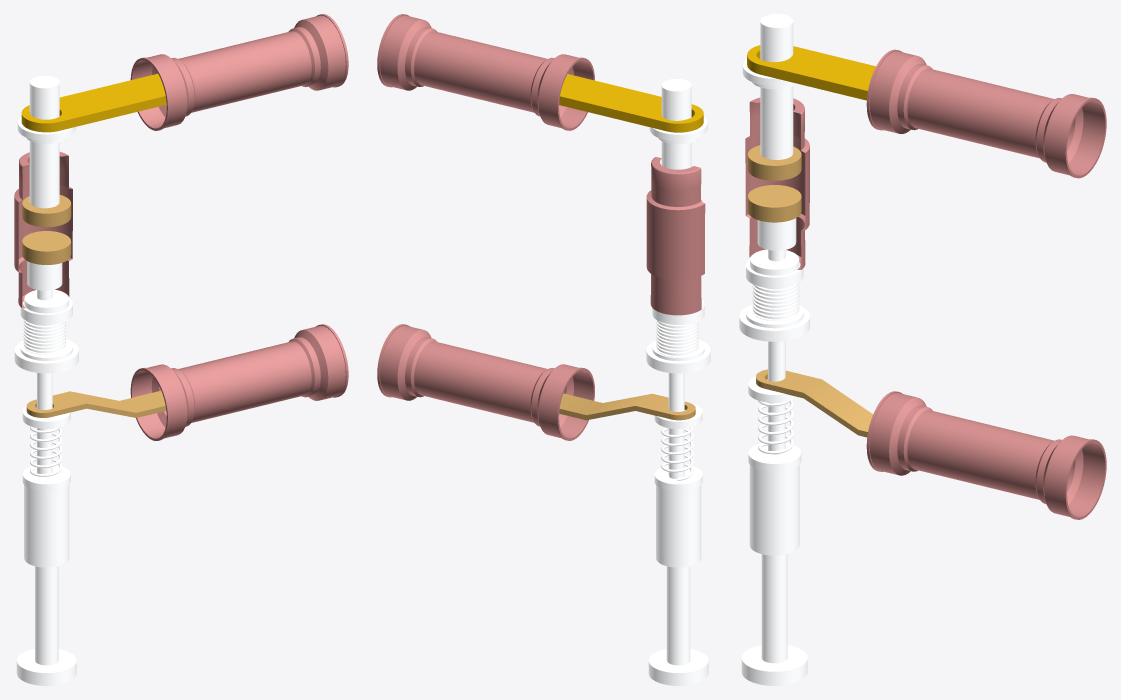
Rendered from duanlu.glb.
3 renders of one model, left to right at view 1: azimuth 30°, elevation 25°; view 2: azimuth 150°, elevation 25°; view 3: azimuth 330°, elevation 25°, orthographic. The views are drawn at different scales.
Visible parts, largest first — view 1: 管道_3_2, 管道, 管道_2_3, 管道_3, 圆柱_21, 圆柱_6, 旋转_2, 封顶_2_3, 圆柱_22, 封顶_2_2, 圆柱_23, 圆柱_10 (+16 smaller); view 2: 旋转_2, 管道_3_2, 管道, 管道_2_3, 管道_3, 圆柱_21, 封顶_2_3, 圆柱_22, 圆柱_6, 封顶_2_2, 圆柱_23, 挤压_1 (+12 smaller); view 3: 管道, 管道_2_3, 管道_3_2, 管道_3, 圆柱_21, 圆柱_6, 旋转_2, 圆柱_22, 封顶_2_3, 封顶_2_2, 圆柱_23, 圆柱_10 (+16 smaller).
Boxes of the visible parts, left/top/right/bottom form: 管道_3_2: left=133, top=355, right=255, bottom=438; 管道: left=232, top=15, right=345, bottom=98; 管道_2_3: left=231, top=325, right=345, bottom=408; 管道_3: left=133, top=45, right=255, bottom=128; 圆柱_21: left=24, top=485, right=69, bottom=567; 圆柱_6: left=29, top=75, right=59, bottom=208; 旋转_2: left=14, top=152, right=72, bottom=308; 封顶_2_3: left=21, top=73, right=165, bottom=123; 圆柱_22: left=35, top=566, right=58, bottom=665; 封顶_2_2: left=26, top=390, right=165, bottom=412; 圆柱_23: left=16, top=649, right=76, bottom=685; 圆柱_10: left=22, top=231, right=71, bottom=264; 旋转_2: left=646, top=157, right=705, bottom=315; 管道_3_2: left=470, top=355, right=592, bottom=438; 管道: left=380, top=15, right=493, bottom=98; 管道_2_3: left=380, top=325, right=489, bottom=409; 管道_3: left=470, top=45, right=591, bottom=127; 圆柱_21: left=656, top=485, right=701, bottom=567; 封顶_2_3: left=560, top=74, right=703, bottom=123; 圆柱_22: left=666, top=566, right=690, bottom=665; 圆柱_6: left=661, top=78, right=691, bottom=169; 封顶_2_2: left=559, top=393, right=695, bottom=415; 圆柱_23: left=648, top=649, right=708, bottom=685; 挤压_1: left=559, top=96, right=703, bottom=132; 管道: left=969, top=83, right=1104, bottom=175; 管道_2_3: left=969, top=425, right=1103, bottom=516; 管道_3_2: left=869, top=393, right=993, bottom=485; 管道_3: left=869, top=51, right=995, bottom=142; 圆柱_21: left=749, top=465, right=799, bottom=555; 圆柱_6: left=760, top=14, right=793, bottom=159; 旋转_2: left=745, top=97, right=809, bottom=269; 圆柱_22: left=761, top=554, right=787, bottom=663; 封顶_2_3: left=747, top=45, right=875, bottom=90; 封顶_2_2: left=756, top=369, right=872, bottom=431; 圆柱_23: left=741, top=645, right=807, bottom=685; 圆柱_10: left=747, top=185, right=801, bottom=222.
Size of the model in its own units: 1.46 by 2.67 by 0.3032.
